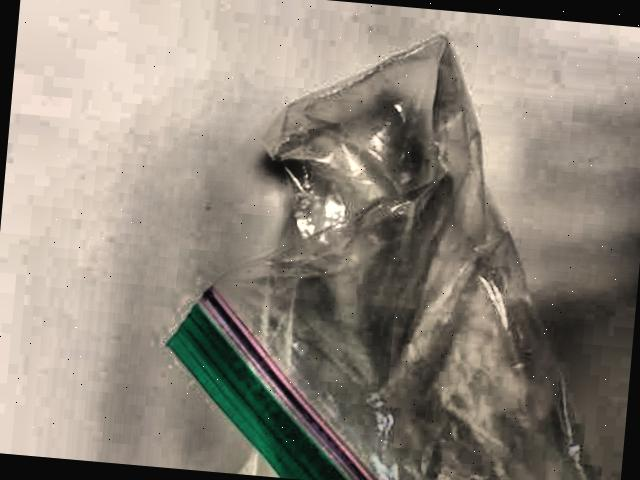Plastic: (119, 9, 620, 480)
